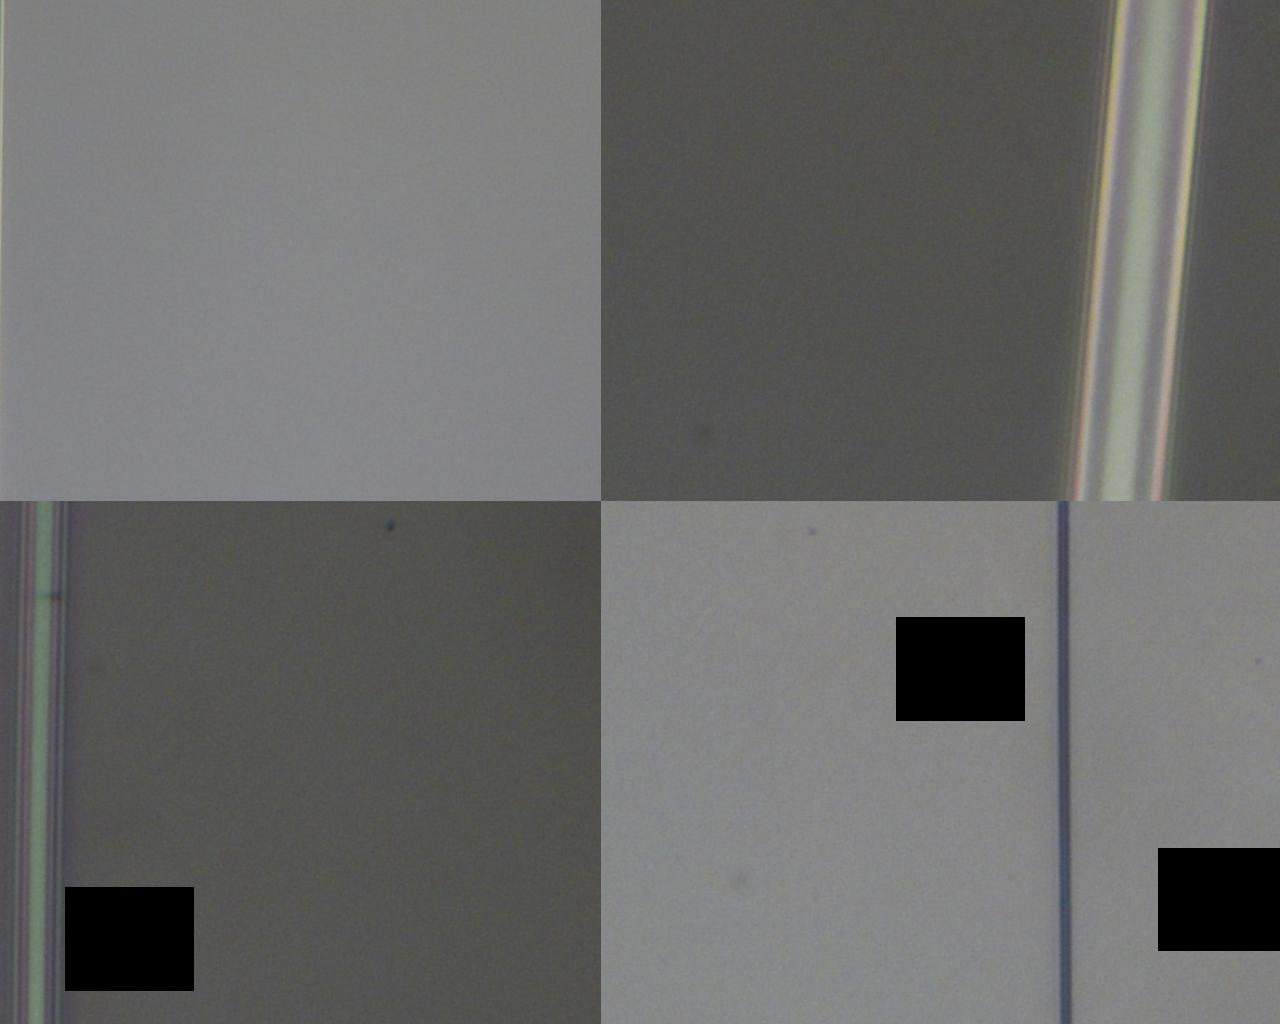fiber: (128, 219, 1152, 986)
